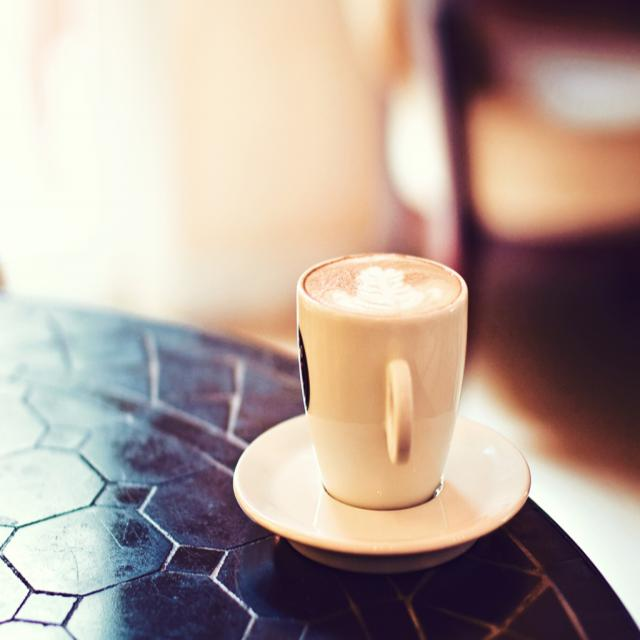Coffee: (301, 253, 465, 320)
